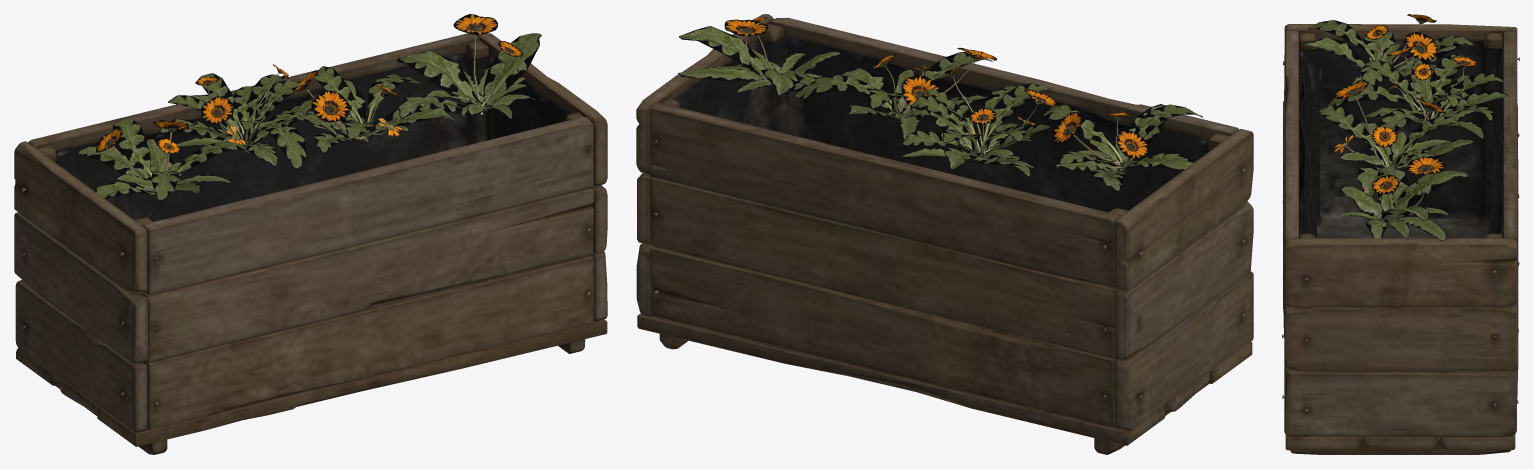
File: plant-flower-box.glb
The picture shows the model from 3 angles, left to right: view 1: azimuth 30°, elevation 25°; view 2: azimuth 150°, elevation 25°; view 3: azimuth 270°, elevation 25°; orthographic projection. The views are drawn at different scales.
Parts seen in each view (by area): view 1: planter_box_01, flower_gazania_h_LOD0, flower_gazania_e_LOD0, flower_gazania_f_LOD0, flower_gazania_g_LOD0; view 2: planter_box_01, flower_gazania_h_LOD0, flower_gazania_f_LOD0, flower_gazania_g_LOD0, flower_gazania_e_LOD0; view 3: planter_box_01, flower_gazania_h_LOD0, flower_gazania_g_LOD0, flower_gazania_e_LOD0, flower_gazania_f_LOD0.
Part boxes in pixels (bbox=[...]): planter_box_01: bbox=[14, 33, 607, 454]; flower_gazania_h_LOD0: bbox=[160, 64, 337, 169]; flower_gazania_e_LOD0: bbox=[397, 14, 541, 118]; flower_gazania_f_LOD0: bbox=[77, 118, 250, 201]; flower_gazania_g_LOD0: bbox=[288, 66, 455, 152]; planter_box_01: bbox=[636, 14, 1253, 454]; flower_gazania_h_LOD0: bbox=[902, 67, 1057, 176]; flower_gazania_f_LOD0: bbox=[1043, 104, 1202, 191]; flower_gazania_g_LOD0: bbox=[794, 47, 996, 139]; flower_gazania_e_LOD0: bbox=[678, 17, 863, 96]; planter_box_01: bbox=[1282, 24, 1519, 454]; flower_gazania_h_LOD0: bbox=[1328, 45, 1509, 138]; flower_gazania_g_LOD0: bbox=[1318, 79, 1473, 197]; flower_gazania_e_LOD0: bbox=[1337, 157, 1468, 241]; flower_gazania_f_LOD0: bbox=[1305, 14, 1473, 85].
Bounding box in the file's own units: 0.9225 × 0.5371 × 0.4137.
Materials: 5 (5 with a texture image).
